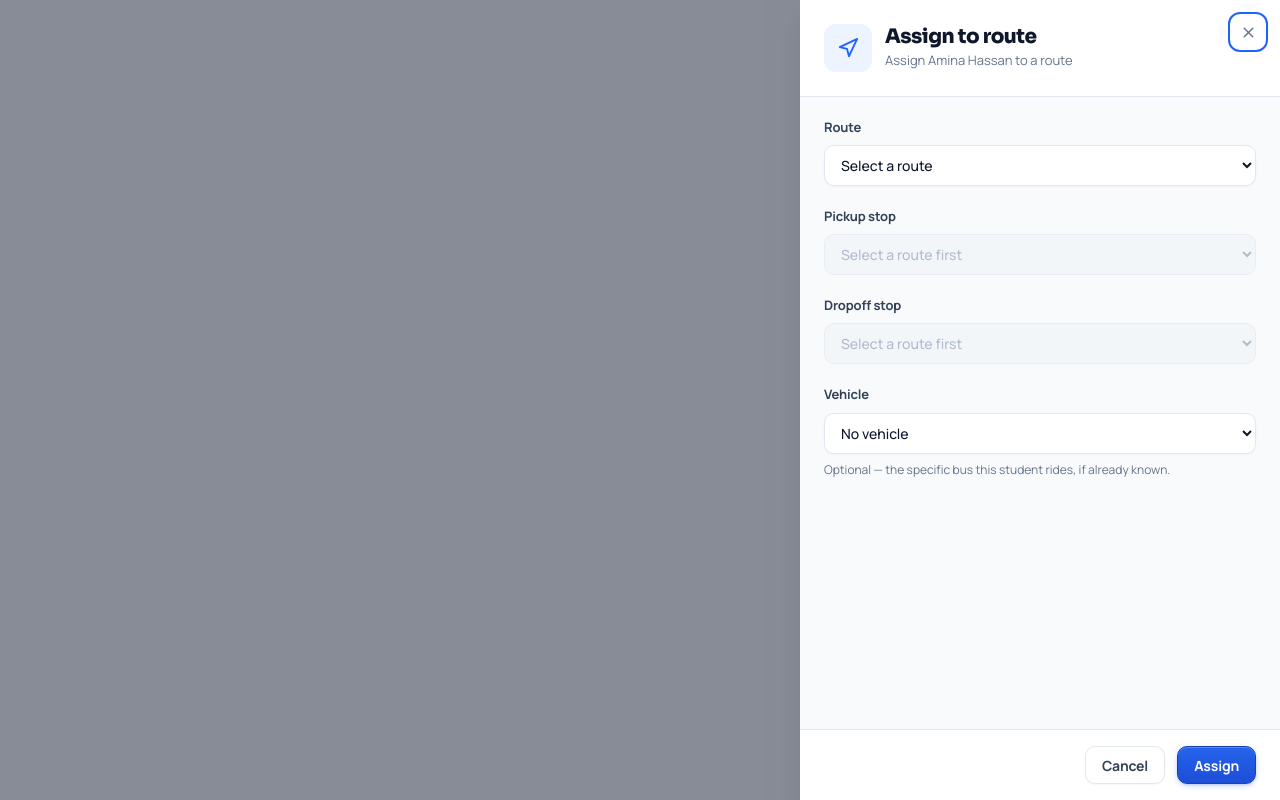
AssignStudentForm › disables the stop pickers until a route is chosen, then populates them from that route's stops
expect the dropdown labelled "Pickup stop" is disabled: met, box [824, 234, 1256, 275]
expect the dropdown labelled "Dropoff stop" is disabled: met, box [824, 323, 1256, 364]
Select "Morning Route A" in the dropdown labelled "Route": {"x": 1040, "y": 166} [824, 145, 1256, 186]
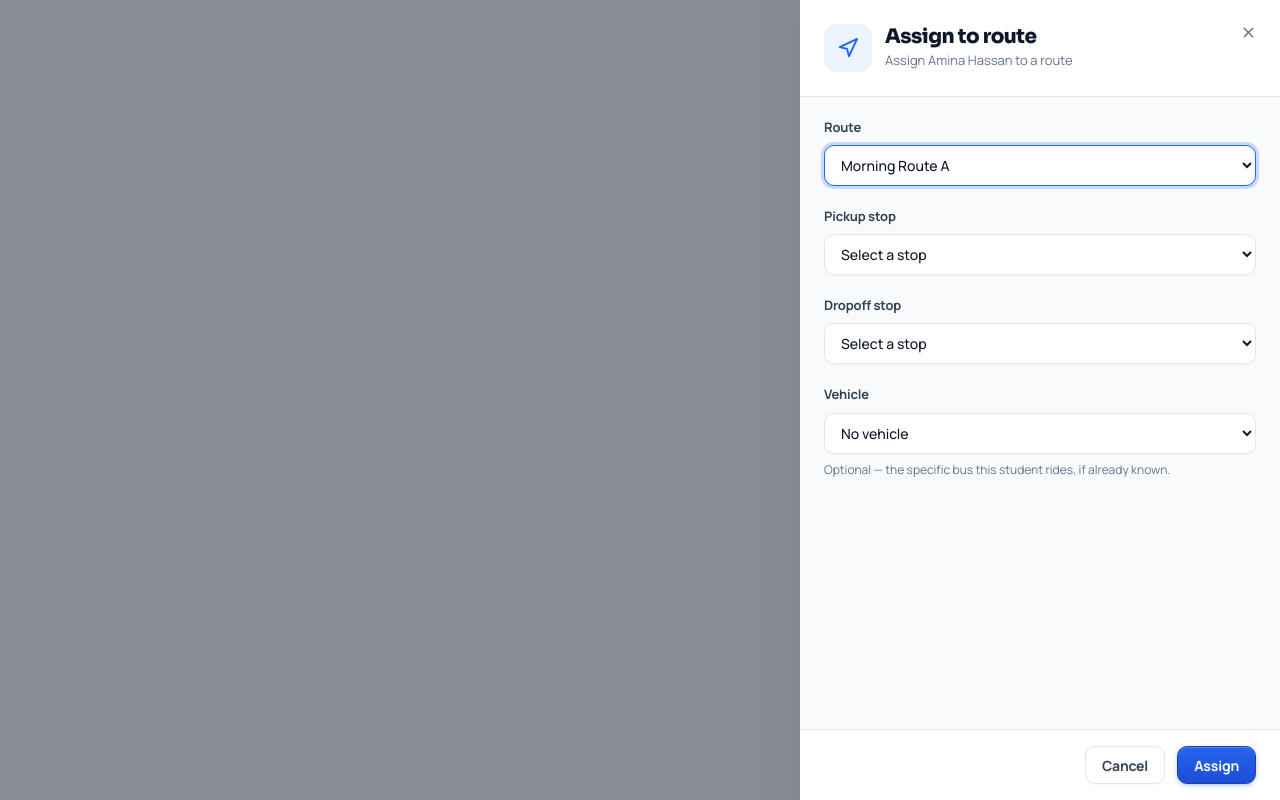
expect the dropdown labelled "Pickup stop" is enabled: met, box [824, 234, 1256, 275]
